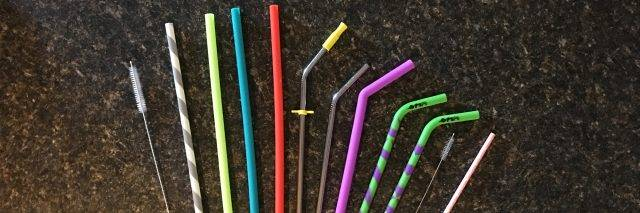Drinking Straw: (201, 11, 237, 213)
